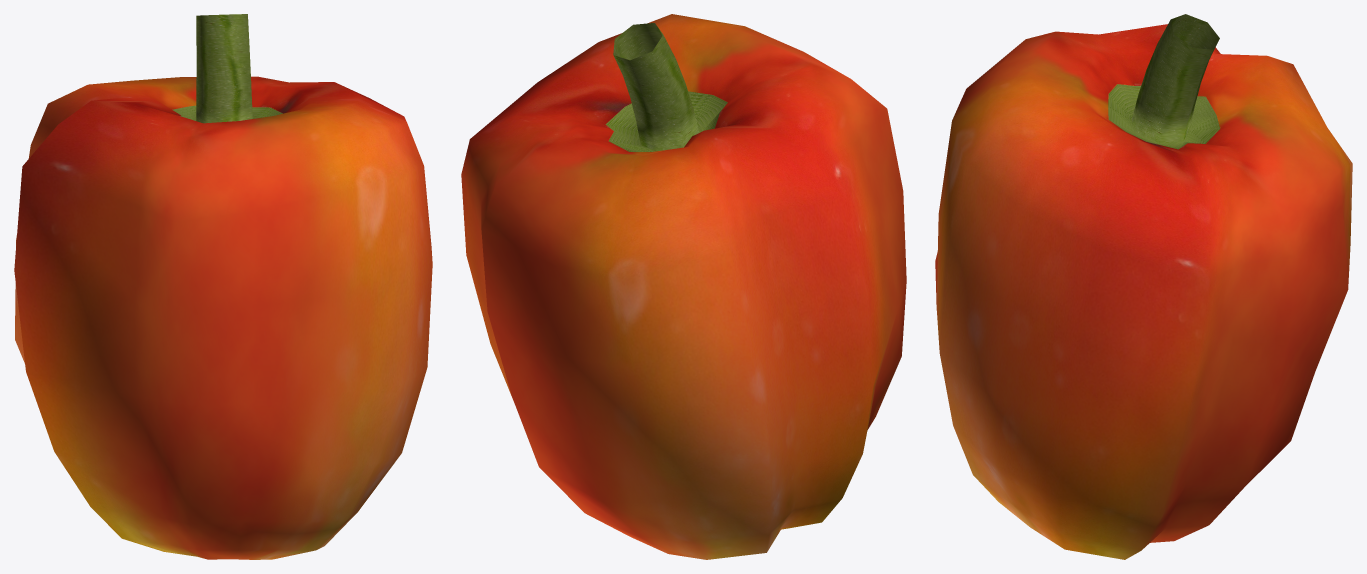
The model's file is VG07_5_fruit2.dae.
3 renders of one model, left to right at view 1: azimuth 30°, elevation 25°; view 2: azimuth 150°, elevation 25°; view 3: azimuth 270°, elevation 25°, orthographic. The views are drawn at different scales.
Visible parts, largest first — view 1: VG07_024; view 2: VG07_024; view 3: VG07_024.
Part boxes in pixels (bbox=[...]): VG07_024: bbox=[14, 14, 432, 559]; VG07_024: bbox=[461, 14, 906, 559]; VG07_024: bbox=[935, 14, 1352, 559].
Bounding box in the file's own units: 0.0586 × 0.0548 × 0.0753.
2 materials, 2 textured.
